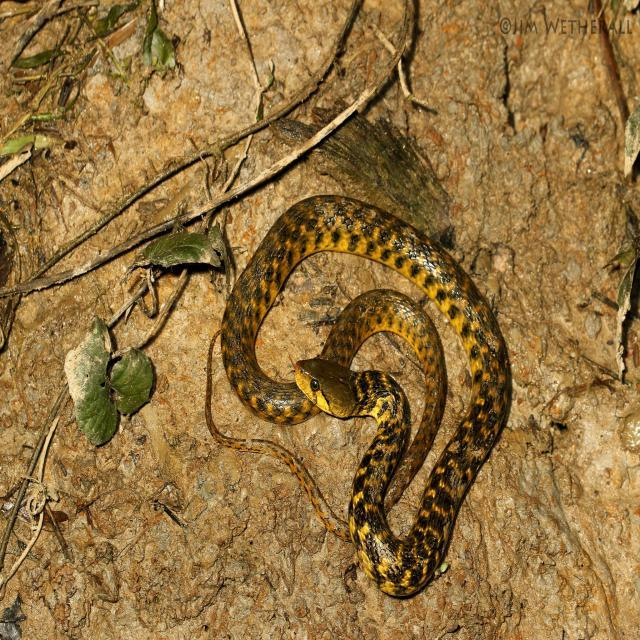Snake: (205, 192, 512, 599)
